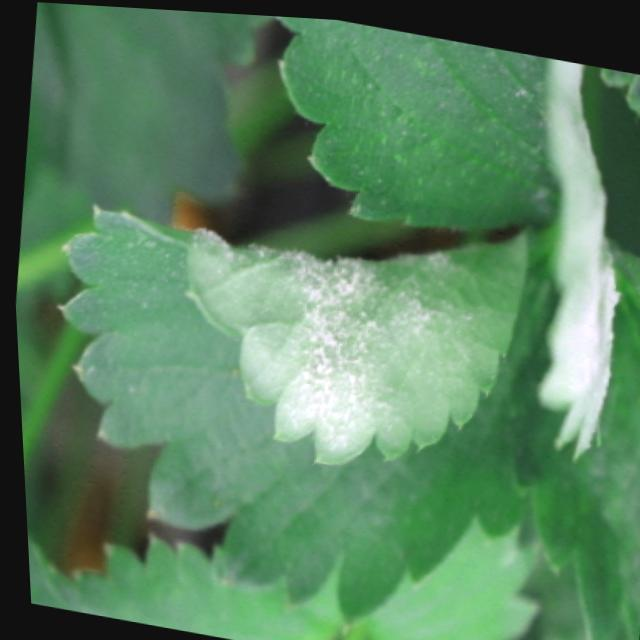Powdery Mildew Leaf: (58, 206, 548, 622), (275, 13, 613, 453), (501, 228, 640, 640)
